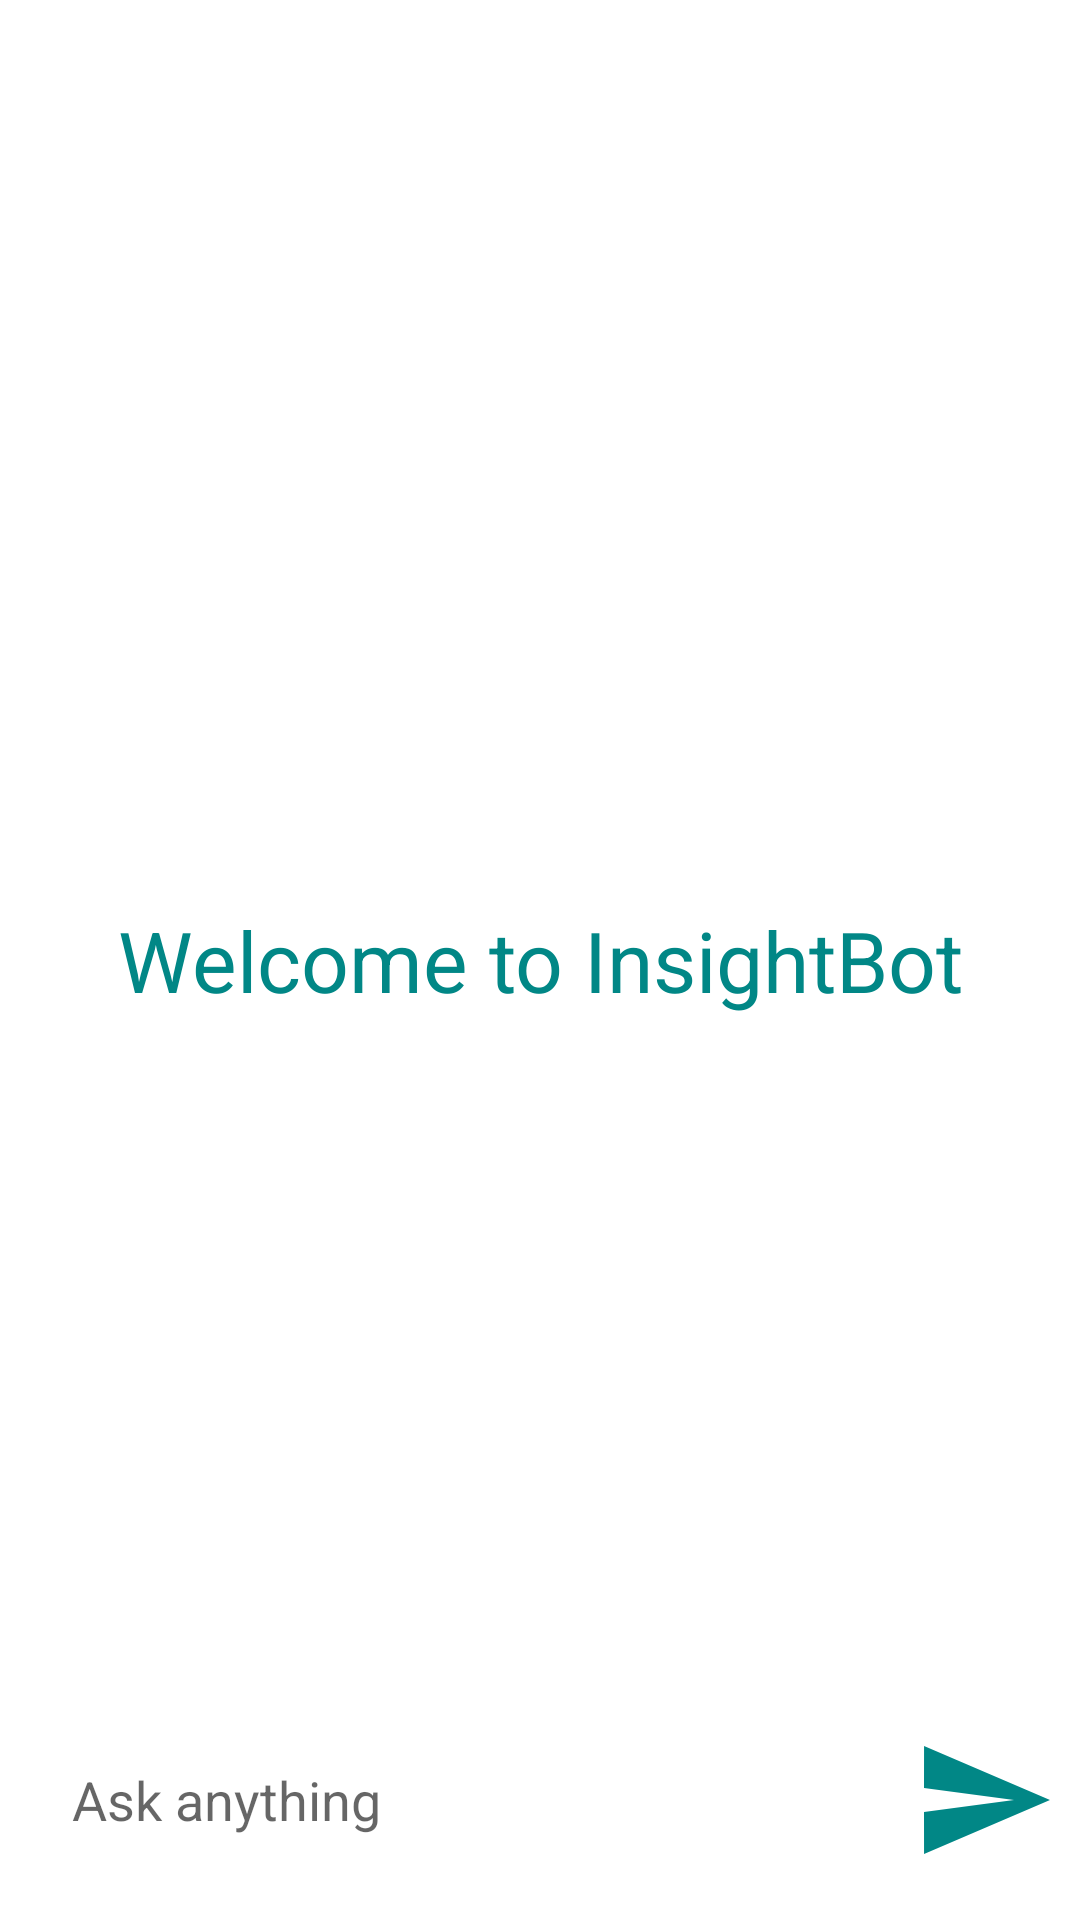

Screen size 1080x1920. Icon name, then its box in pixels as (x1, y1, x2, y2):
send: (924, 1746, 1050, 1854)
